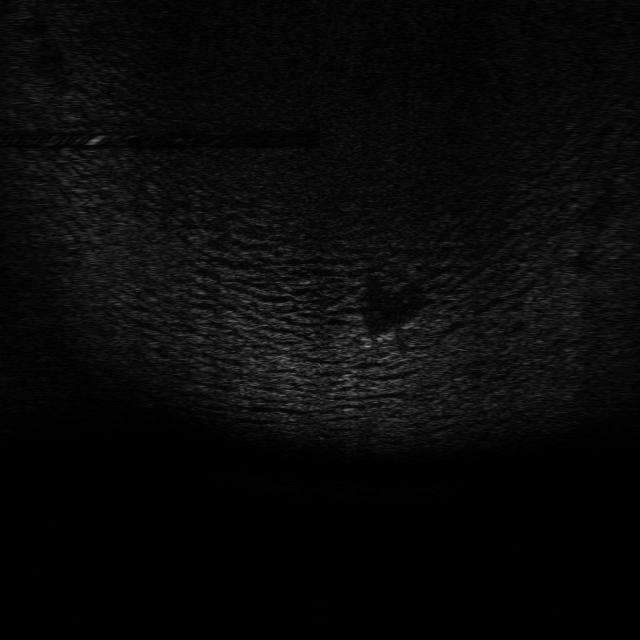plane: (353, 312, 421, 354)
